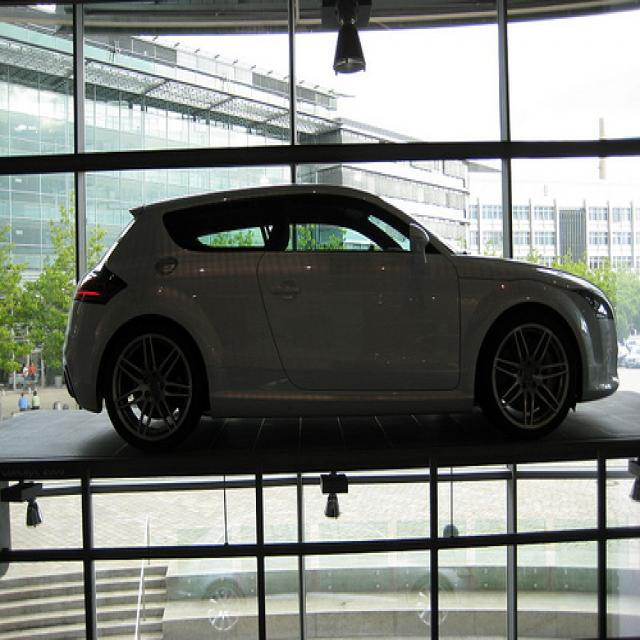Car: (55, 182, 620, 448)
